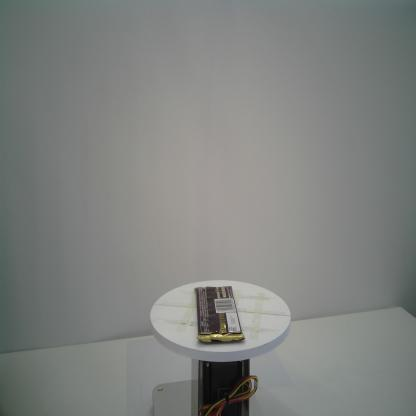Chocolate: (193, 284, 246, 346)
